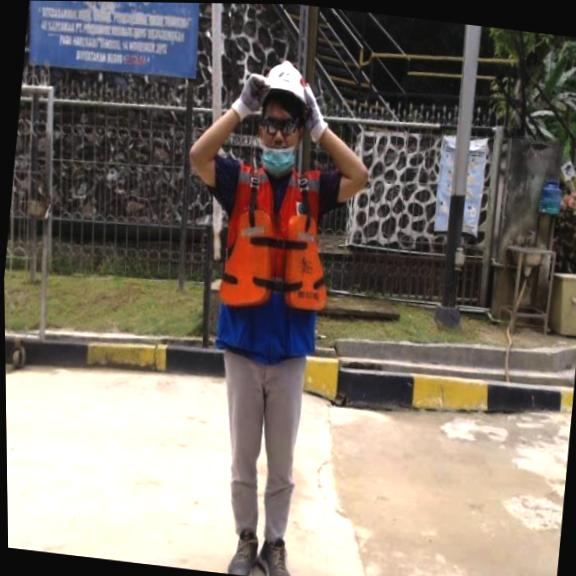safety_vest: (216, 203, 336, 318)
